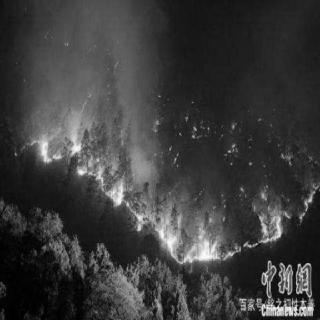Fire: (131, 207, 181, 265)
